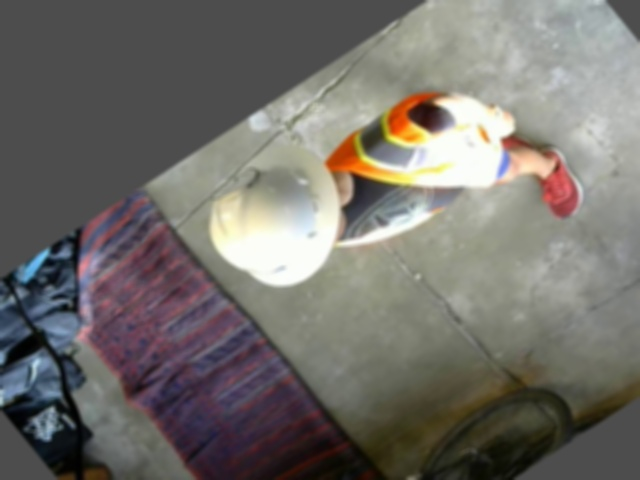two: (206, 163, 261, 206)
